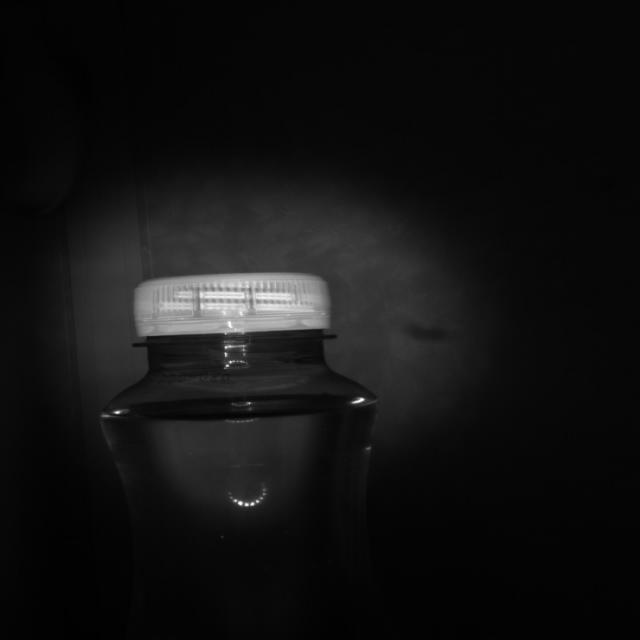Good: (135, 273, 333, 339)
